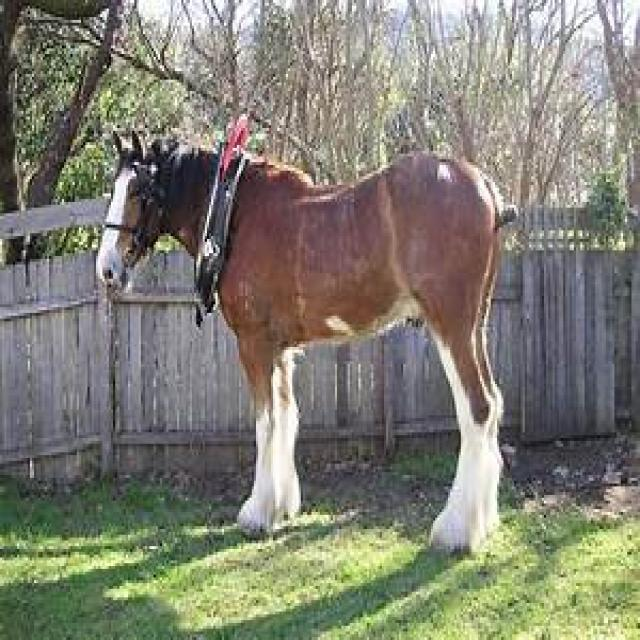horse: (96, 117, 510, 555)
